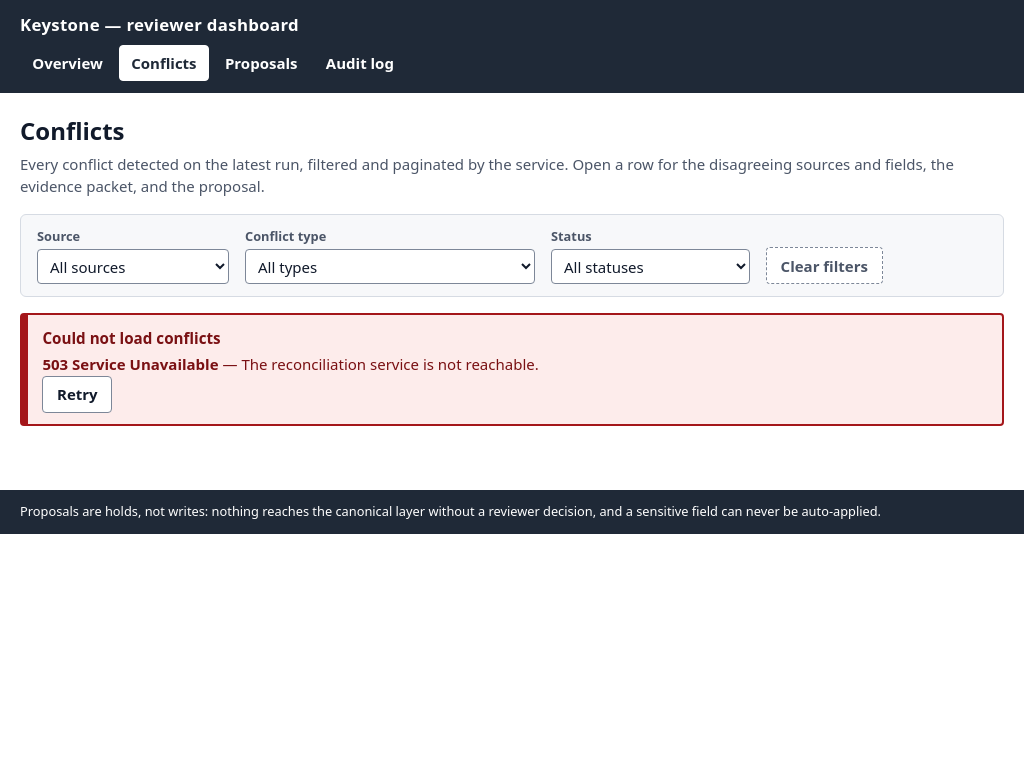
/conflicts — error state › shows a visible, announced, retryable error when the service fails
This screenshot has width=1024, height=763.
Check: the message shows "Could not load conflicts", box [20, 313, 1004, 426]
Check: the message shows "503 Service Unavailable", box [42, 354, 219, 374]
Click the button "Retry" at (77, 395), box [42, 376, 112, 413]
(page scrolled)
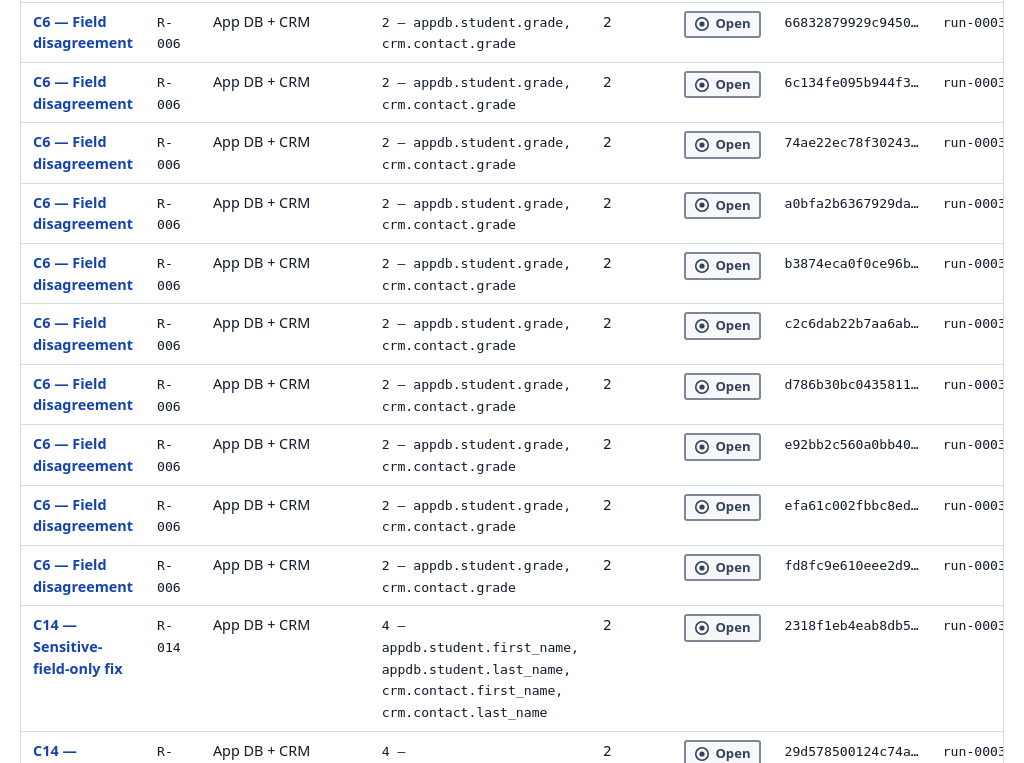
Check: the message is gone
